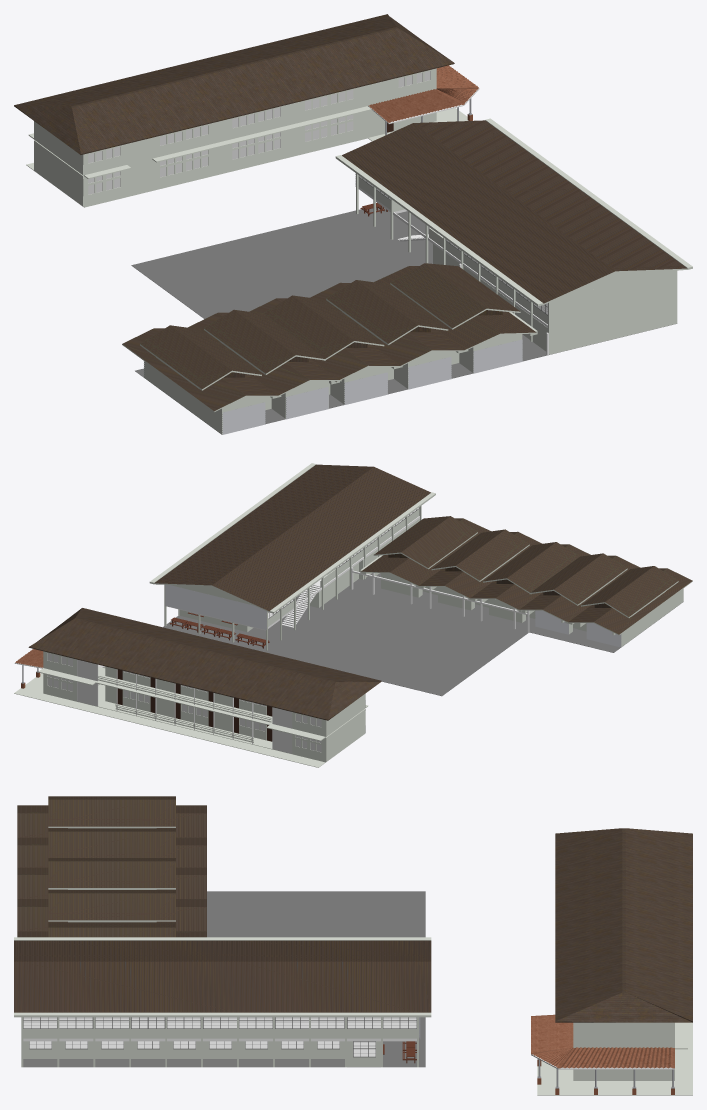
The model's file is library_faifa_building.glb.
The picture shows the model from 3 angles, top to bottom: view 1: azimuth 30°, elevation 25°; view 2: azimuth 150°, elevation 25°; view 3: azimuth 270°, elevation 25°; orthographic projection. The views are drawn at different scales.
Visible parts, largest first — view 1: Cube.080, Cube.062, Cube.060, Cube, Cube.017, F1.003, F2.001, Cube.076, Cube.004, floor2.001, Cube.006, Cube.057 (+4 smaller); view 2: Cube.080, Cube.062, Cube, Cube.060, Cube.057, F1.003, F2.001, Cube.017, Cube.065, floor2.001, Cube.006, Cube.075 (+7 smaller); view 3: Cube.062, Cube.060, Cube.080, Cube, Cube.017, Cube.004, Cube.057, F2.001, Cube.018, Cube.006, F1.003.
Part boxes in pixels (box(x1,y1,x2,y2)): Cube.080: box(122, 263, 537, 434); Cube.062: box(335, 118, 692, 306); Cube.060: box(14, 14, 454, 154); Cube: box(131, 206, 675, 434); Cube.017: box(358, 177, 675, 354); F1.003: box(34, 106, 436, 206); F2.001: box(34, 68, 436, 175); Cube.076: box(222, 339, 522, 434); Cube.004: box(368, 65, 479, 123); floor2.001: box(28, 106, 371, 178); Cube.006: box(356, 173, 678, 354); Cube.057: box(26, 108, 468, 207); Cube.080: box(360, 516, 692, 646); Cube.062: box(149, 463, 435, 613); Cube: box(163, 573, 682, 696); Cube.060: box(28, 608, 381, 720); Cube.057: box(14, 673, 364, 767); F1.003: box(43, 667, 365, 761); F2.001: box(43, 651, 365, 736); Cube.017: box(180, 509, 419, 631); Cube.065: box(165, 585, 266, 629); floor2.001: box(38, 666, 368, 741); Cube.006: box(164, 506, 421, 650); Cube.075: box(535, 610, 621, 647); Cube.062: box(14, 937, 431, 1017); Cube.060: box(555, 828, 692, 1022); Cube.080: box(17, 796, 206, 937); Cube: box(23, 891, 425, 1067); Cube.017: box(23, 1028, 416, 1066); Cube.004: box(531, 1014, 674, 1069); Cube.057: box(537, 1022, 692, 1095); F2.001: box(573, 1022, 674, 1047); Cube.018: box(23, 1017, 416, 1041); Cube.006: box(21, 1017, 418, 1067); F1.003: box(573, 1069, 674, 1080).
Bounding box in the file's own units: 63.51 × 9.16 × 68.67.
Materials: 12 (3 with a texture image).
